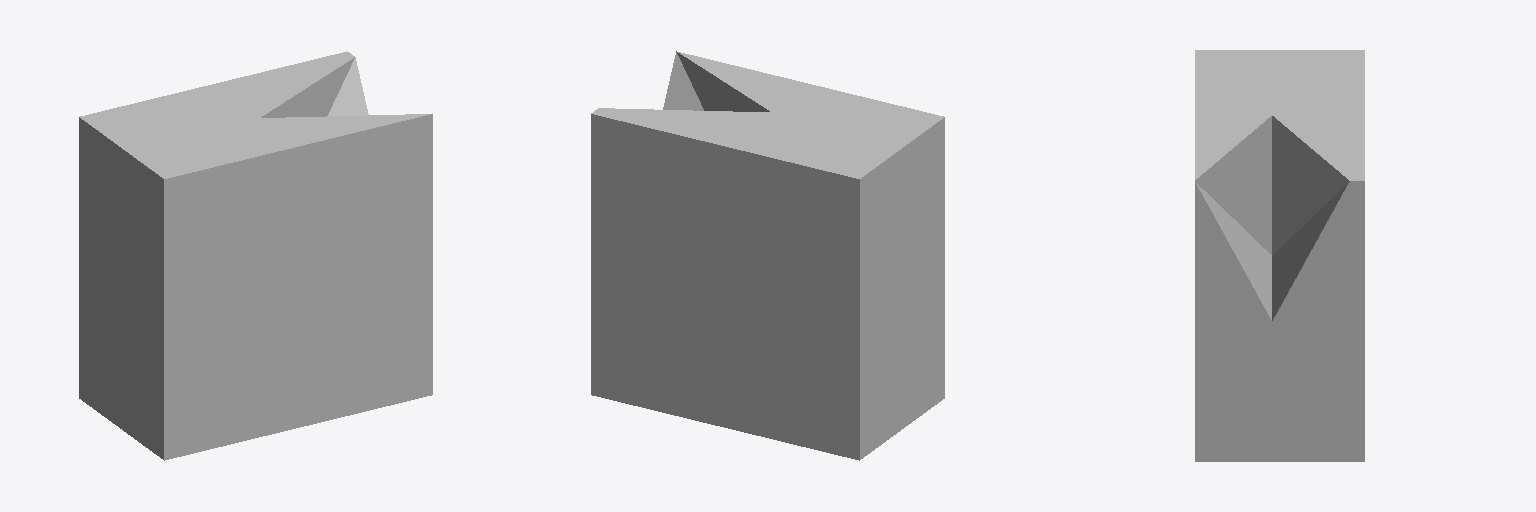
Rendered from raw_data0.obj.
3 views of the same model, side by side, from view 1: azimuth 30°, elevation 25°; view 2: azimuth 150°, elevation 25°; view 3: azimuth 270°, elevation 25° (orthographic).
Size of the model in its own units: 2 by 2 by 1.1.